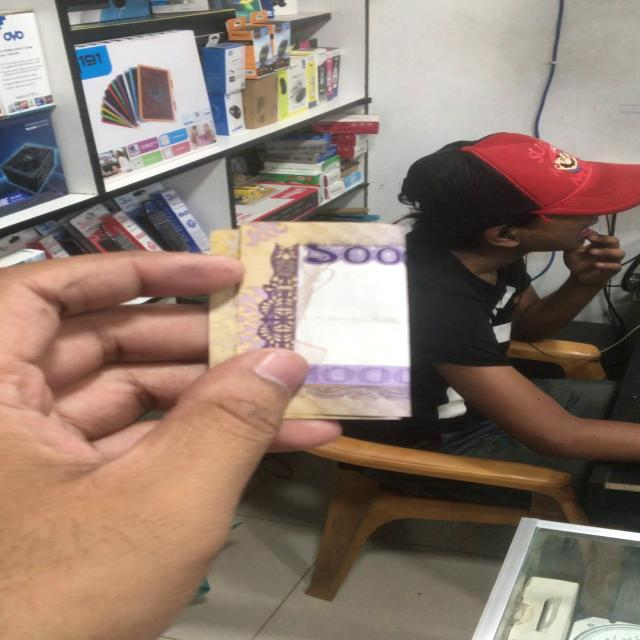Taka: (212, 218, 418, 424)
